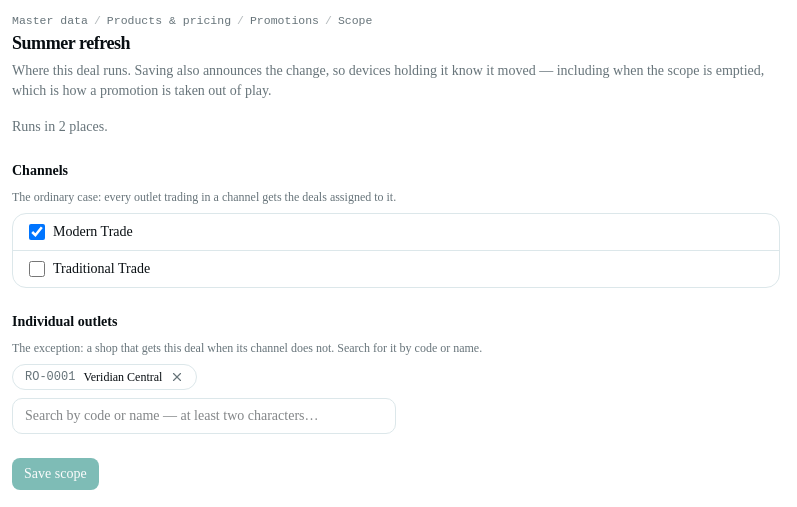
Test case: <PromotionScope> › offers nothing to save until the scope changes
The width and height of the screenshot is (797, 507).
Expected: the button "Save scope" is disabled, [12,458,99,490]
What coordinates should you click on to do the following:
click the checkbox named "Run in Traditional Trade"
I would click on:
 (37, 269)
Its box is [29,261,45,277].
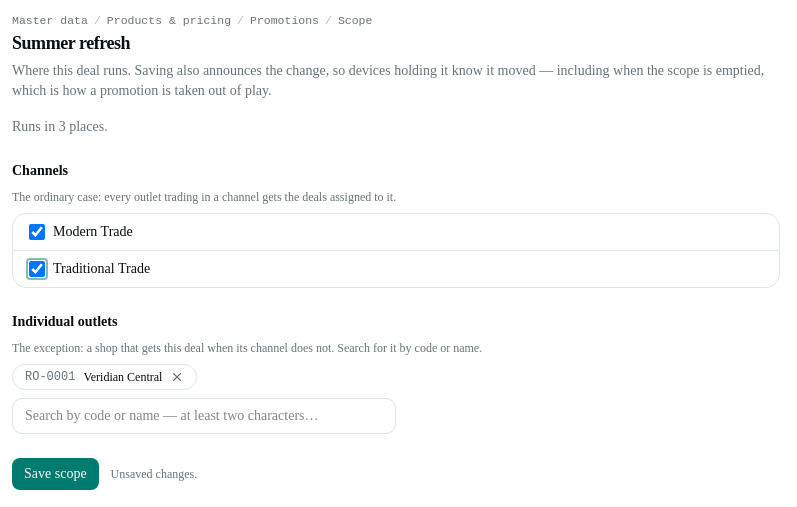
Now the button "Save scope" is enabled, box [12,458,99,490]
What coordinates should you click on to do the following:
click the checkbox named "Run in Traditional Trade"
I would click on:
 (37, 269)
Its box is [29,261,45,277].
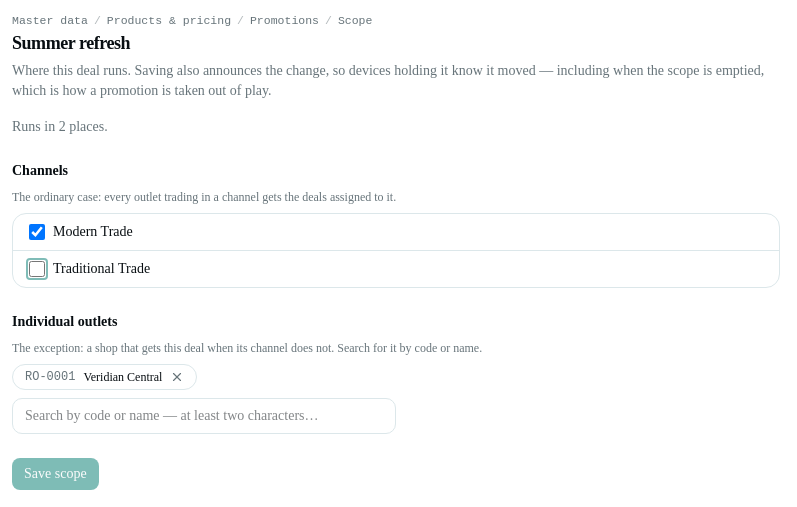
Now the button "Save scope" is disabled, box [12,458,99,490]
